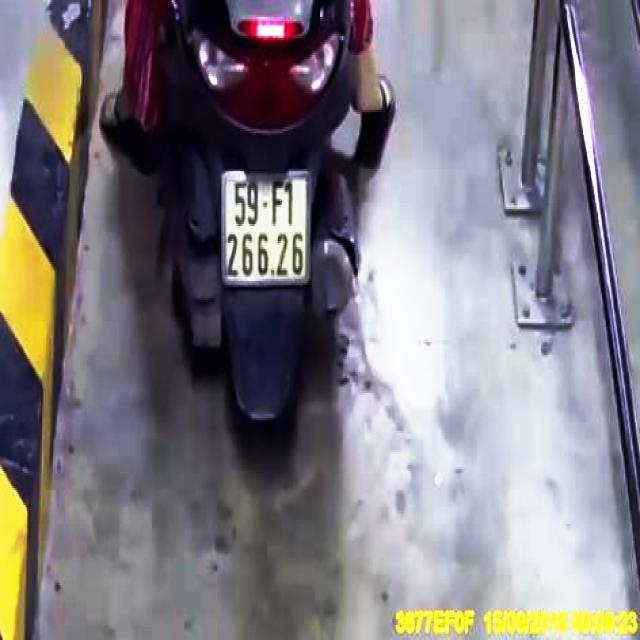license_plate: (223, 170, 312, 282)
